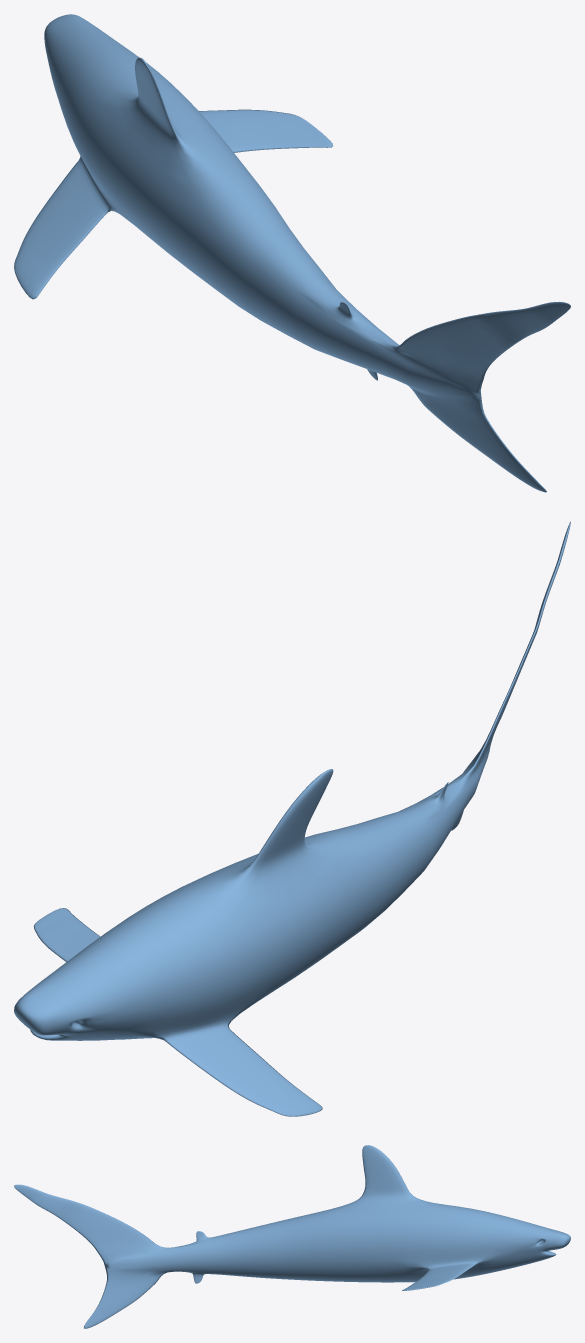
Rendered from dolphin1_4.dae.
The picture shows the model from 3 angles, top to bottom: view 1: azimuth 30°, elevation 25°; view 2: azimuth 150°, elevation 25°; view 3: azimuth 270°, elevation 25°; orthographic projection. The views are drawn at different scales.
Parts seen in each view (by area): view 1: dolphin1_019; view 2: dolphin1_019; view 3: dolphin1_019.
Part boxes in pixels (box(x1,y1,x2,y2)): dolphin1_019: box(14, 14, 570, 492); dolphin1_019: box(14, 521, 570, 1116); dolphin1_019: box(14, 1145, 570, 1328).
Bounding box in the file's own units: 0.045 × 0.146 × 0.0426.
